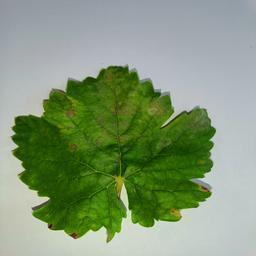Powdery-Mildew: (78, 197, 117, 226), (136, 93, 163, 120), (109, 97, 133, 117), (182, 113, 206, 131), (63, 142, 80, 158), (163, 204, 179, 221), (65, 100, 81, 116)
